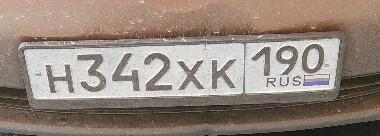license-plateSW: (23, 40, 343, 101)
